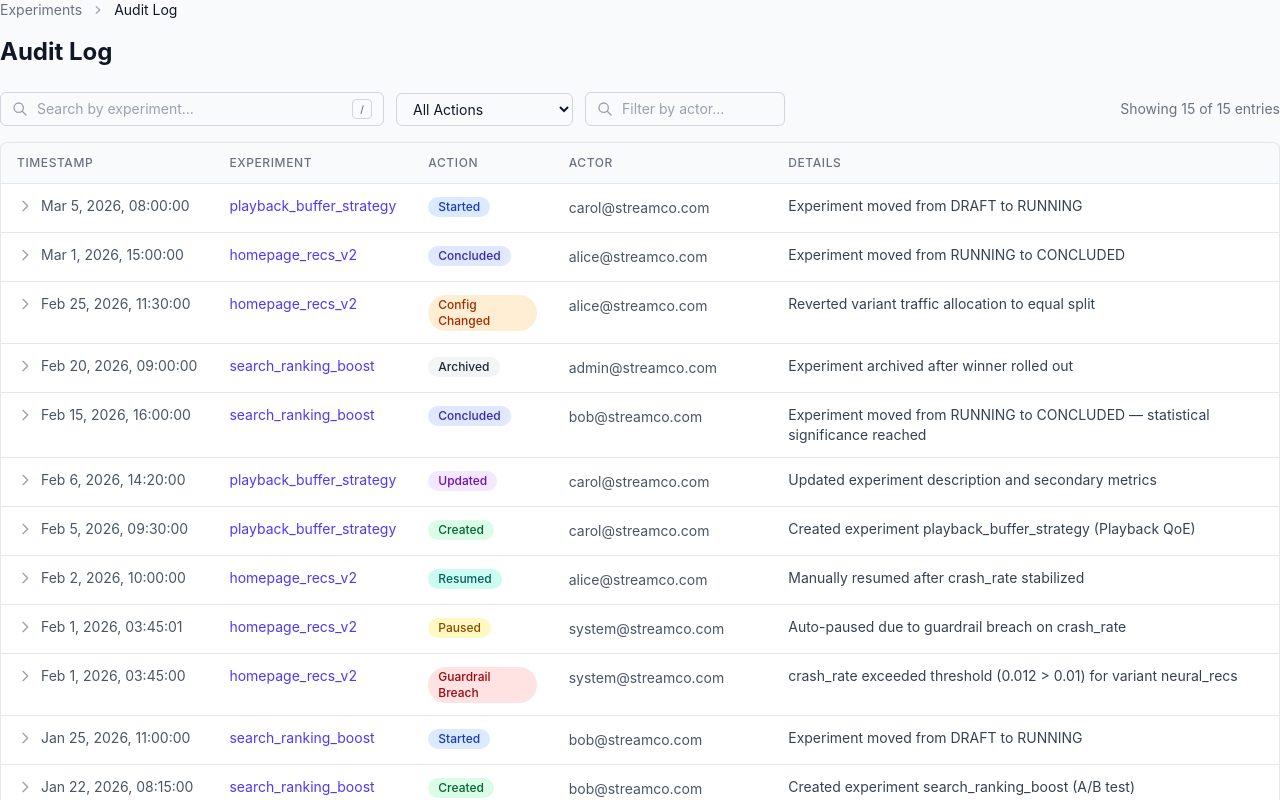
Audit Log Page › filter by experiment name works
The width and height of the screenshot is (1280, 800).
expect the heading "Audit Log" is shown: met, box [0,37,112,66]
Search for search_ranking
Type "search_ranking" into the field named "Search by experiment name" at x=192, y=109, box [0,92,384,126]
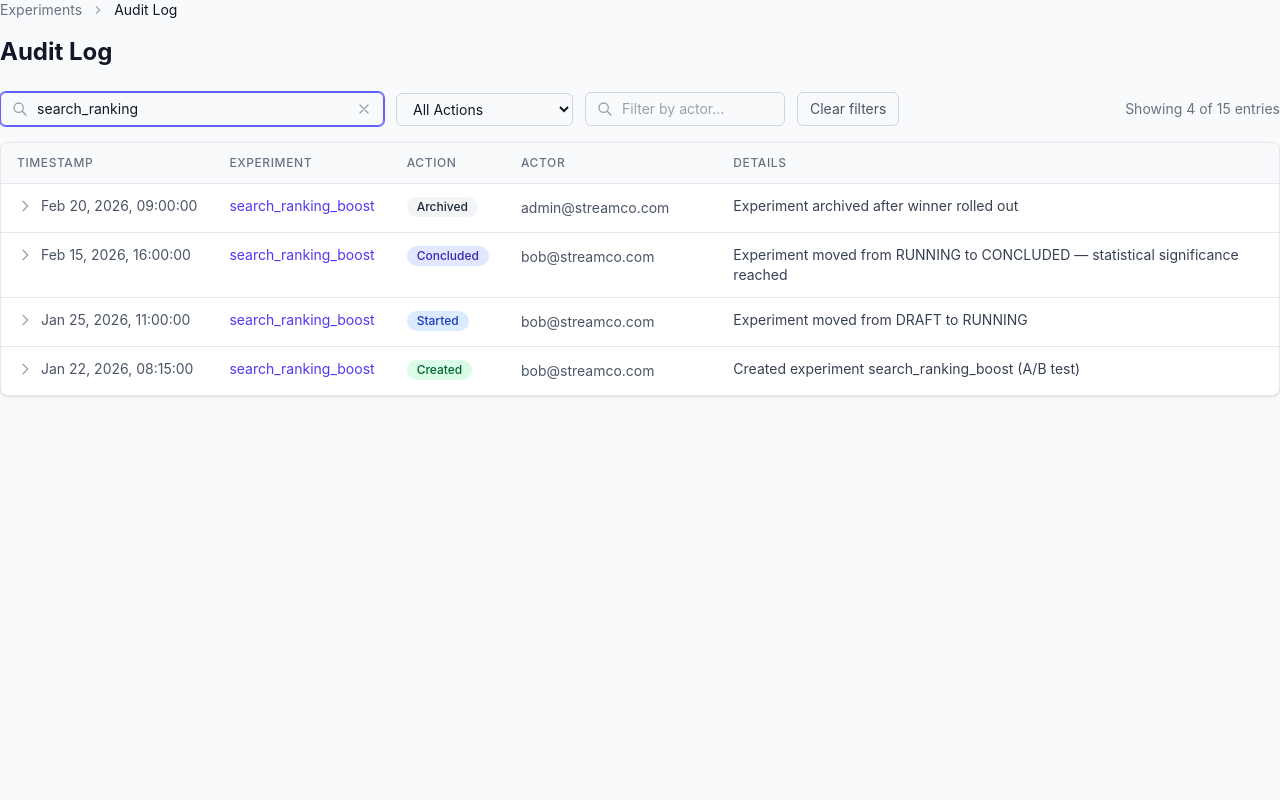
expect the text with test id "audit-count" shows "4 of 15": met, box [1125,99,1279,119]
expect the link "homepage_recs_v2" is gone: met
